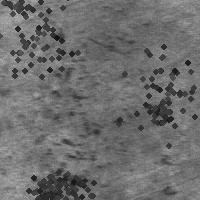rolled-in_scale: (31, 26, 123, 193), (100, 30, 200, 148), (0, 0, 94, 91), (28, 151, 104, 200), (20, 162, 76, 200), (140, 87, 184, 131), (0, 0, 41, 26)
